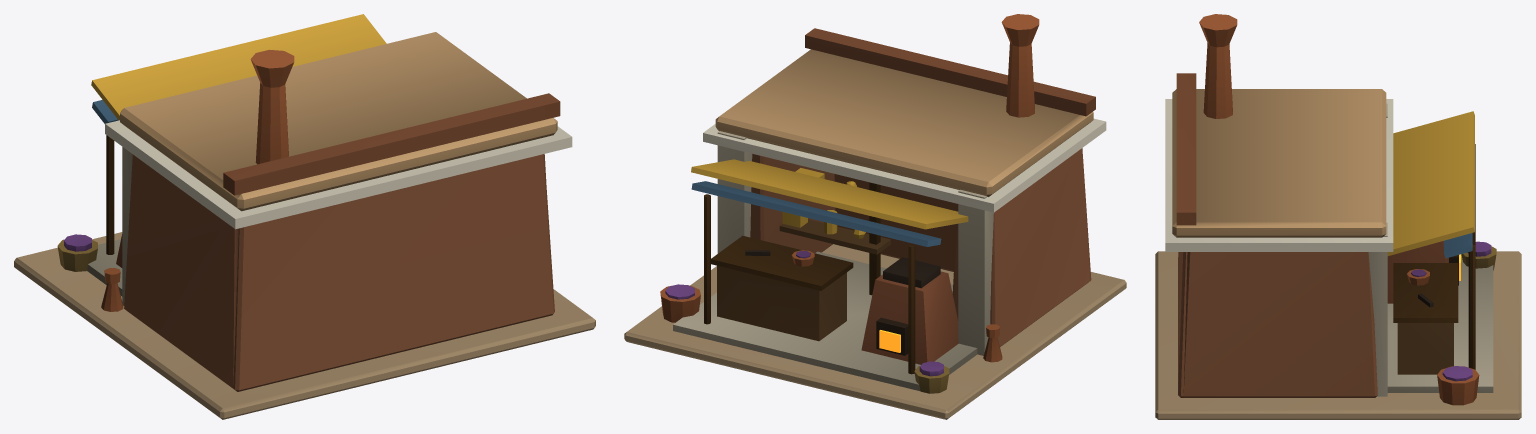
The model's file is luxury_workshop.glb.
3 views of the same model, side by side, from view 1: azimuth 30°, elevation 25°; view 2: azimuth 150°, elevation 25°; view 3: azimuth 270°, elevation 25° (orthographic). The views are drawn at different scales.
Parts seen in each view (by area): view 1: luxury_workshop_mud_terra, luxury_workshop_mud_tan, luxury_workshop_dirt_apron, luxury_workshop_cloth_yellow, luxury_workshop_stone_white, luxury_workshop_mud_dark, luxury_workshop_pottery, luxury_workshop_stone_pale, luxury_workshop_wood_dark, luxury_workshop_thatch_dark; view 2: luxury_workshop_mud_tan, luxury_workshop_mud_terra, luxury_workshop_stone_pale, luxury_workshop_dirt_apron, luxury_workshop_wood_mid, luxury_workshop_wood_dark, luxury_workshop_stone_white, luxury_workshop_cloth_yellow, luxury_workshop_mud_dark, luxury_workshop_brick_red, luxury_workshop_pottery, luxury_workshop_nile_blue (+5 smaller); view 3: luxury_workshop_mud_terra, luxury_workshop_mud_tan, luxury_workshop_dirt_apron, luxury_workshop_cloth_yellow, luxury_workshop_stone_pale, luxury_workshop_stone_white, luxury_workshop_wood_dark, luxury_workshop_pottery, luxury_workshop_mud_dark, luxury_workshop_wood_mid, luxury_workshop_brick_red, luxury_workshop_gem_violet (+2 smaller).
Boxes of the visible parts, box(x1,y1,x2,y2) form: luxury_workshop_mud_terra: box(124, 154, 554, 391); luxury_workshop_mud_tan: box(120, 32, 557, 211); luxury_workshop_dirt_apron: box(14, 232, 595, 419); luxury_workshop_cloth_yellow: box(91, 14, 386, 120); luxury_workshop_stone_white: box(105, 120, 572, 229); luxury_workshop_mud_dark: box(223, 93, 560, 195); luxury_workshop_pottery: box(101, 49, 294, 311); luxury_workshop_stone_pale: box(87, 147, 132, 305); luxury_workshop_wood_dark: box(106, 135, 114, 254); luxury_workshop_thatch_dark: box(57, 239, 97, 271); luxury_workshop_mud_tan: box(715, 49, 1093, 196); luxury_workshop_mud_terra: box(750, 148, 1091, 346); luxury_workshop_stone_pale: box(673, 131, 993, 390); luxury_workshop_dirt_apron: box(624, 244, 1126, 419); luxury_workshop_wood_mid: box(717, 219, 890, 341); luxury_workshop_wood_dark: box(704, 182, 915, 374); luxury_workshop_stone_white: box(703, 118, 1106, 212); luxury_workshop_cloth_yellow: box(691, 159, 968, 229); luxury_workshop_mud_dark: box(805, 28, 1095, 116); luxury_workshop_brick_red: box(861, 271, 958, 364); luxury_workshop_pottery: box(660, 14, 1039, 362); luxury_workshop_nile_blue: box(691, 181, 941, 246); luxury_workshop_mud_terra: box(1178, 252, 1377, 397); luxury_workshop_mud_tan: box(1172, 89, 1386, 237); luxury_workshop_dirt_apron: box(1155, 251, 1521, 419); luxury_workshop_cloth_yellow: box(1387, 111, 1474, 255); luxury_workshop_stone_pale: box(1368, 103, 1493, 396); luxury_workshop_stone_white: box(1165, 99, 1393, 251); luxury_workshop_wood_dark: box(1393, 144, 1475, 369); luxury_workshop_pottery: box(1199, 14, 1479, 405); luxury_workshop_mud_dark: box(1176, 73, 1196, 225); luxury_workshop_wood_mid: box(1397, 323, 1453, 374); luxury_workshop_brick_red: box(1387, 241, 1448, 303); luxury_workshop_gem_violet: box(1411, 241, 1491, 381).
Size of the model in its own units: 2.7 by 2.16 by 2.6.
